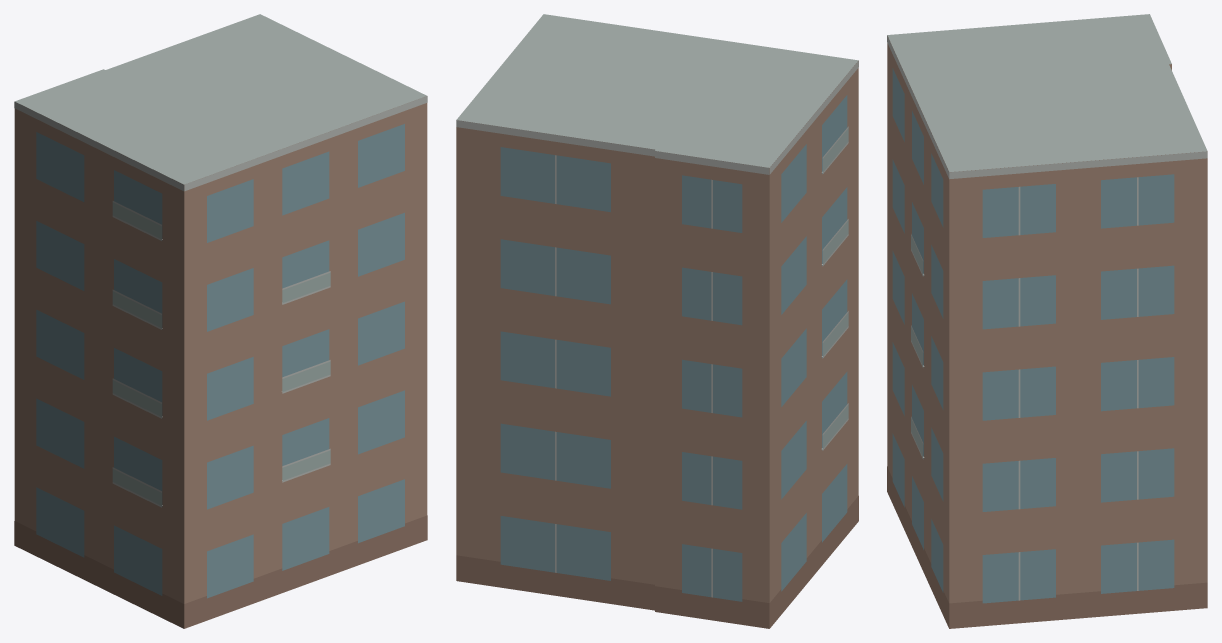
File: survey-upis-32526554.glb
3 renders of one model, left to right at view 1: azimuth 30°, elevation 25°; view 2: azimuth 150°, elevation 25°; view 3: azimuth 270°, elevation 25°, orthographic. The views are drawn at different scales.
Parts seen in each view (by area): view 1: survey-upis-32526554.tmp; view 2: survey-upis-32526554.tmp; view 3: survey-upis-32526554.tmp.
Part boxes in pixels (x1,y1,x2,y2): survey-upis-32526554.tmp: (14, 14, 427, 628); survey-upis-32526554.tmp: (456, 14, 858, 628); survey-upis-32526554.tmp: (887, 14, 1207, 628).
Bounding box in the file's own units: 11.82 × 15.9 × 10.12.
